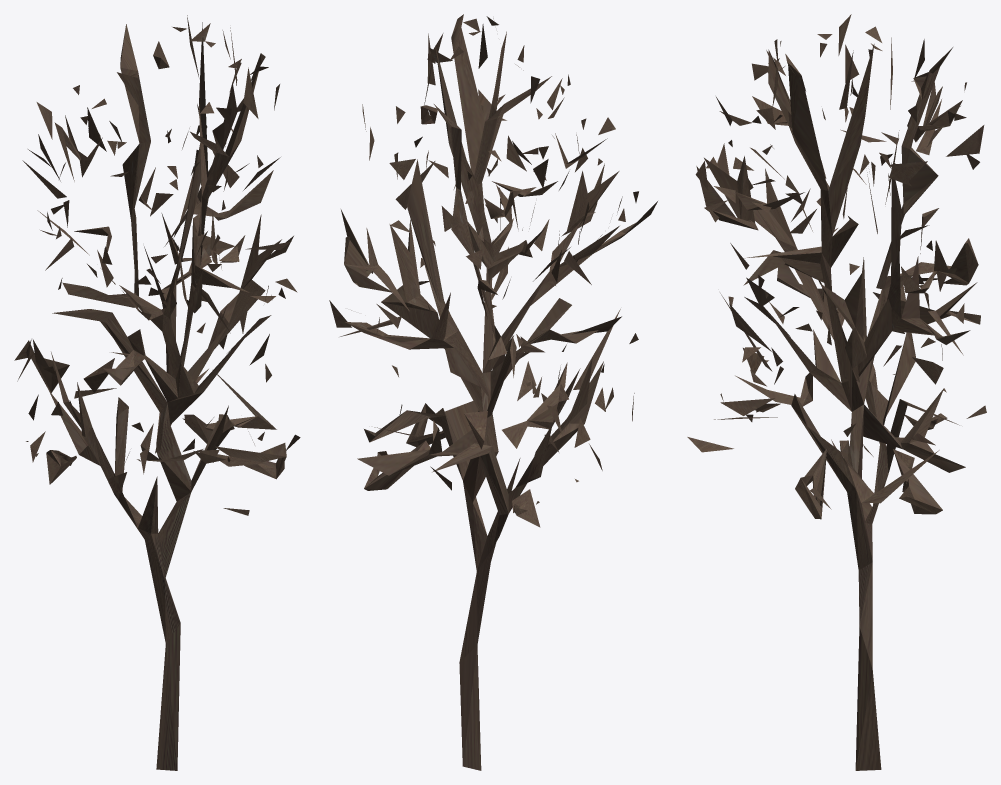
The model's file is Tree_Decay.fbx.
The picture shows the model from 3 angles, left to right: view 1: azimuth 30°, elevation 25°; view 2: azimuth 150°, elevation 25°; view 3: azimuth 270°, elevation 25°; orthographic projection. The views are drawn at different scales.
Parts seen in each view (by area): view 1: Mesh_0; view 2: Mesh_0; view 3: Mesh_0.
Boxes of the visible parts, left/top/right/bottom form: Mesh_0: left=14, top=15, right=300, bottom=770; Mesh_0: left=329, top=14, right=657, bottom=770; Mesh_0: left=687, top=14, right=986, bottom=770.
Bounding box in the file's own units: 145 × 400 × 145.
1 material, 1 textured.
